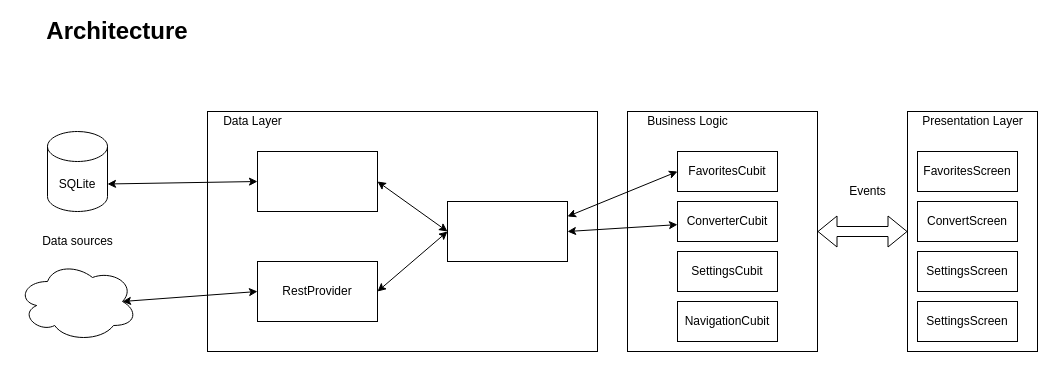
The diagram is 1055 pixels wide and 369 high, and some of its shapes have lost their labels. The shapes that lost their labels are listed below. From the top down, each one's centre as x and y in pixels, then its label:
At (x=317, y=181): "DbProvider".
At (x=507, y=231): "CurrencyRepository".
At (x=77, y=301): "fixer.io REST API".
